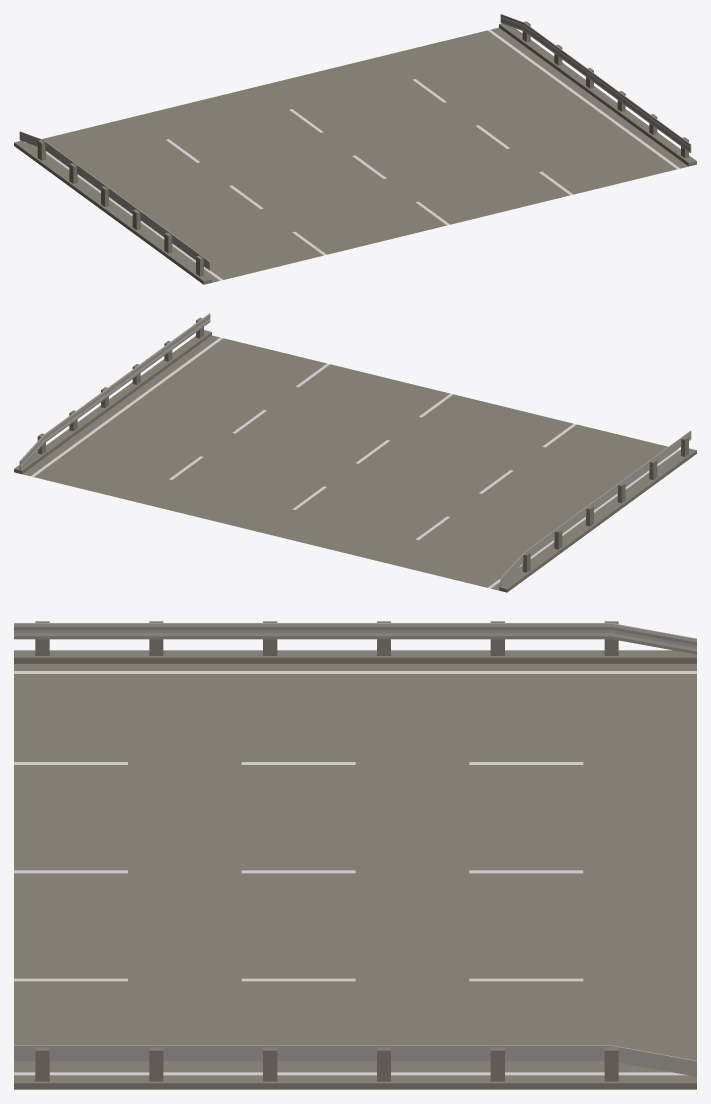
File: highway_Straight_Rail_End.fbx
The picture shows the model from 3 angles, top to bottom: view 1: azimuth 30°, elevation 25°; view 2: azimuth 150°, elevation 25°; view 3: azimuth 270°, elevation 25°; orthographic projection. The views are drawn at different scales.
Visible parts, largest first — view 1: Plane.001; view 2: Plane.001; view 3: Plane.001.
Boxes of the visible parts, box(x1,y1,x2,y2) form: Plane.001: box(14, 14, 696, 284); Plane.001: box(14, 313, 696, 592); Plane.001: box(14, 621, 696, 1089).
Size of the model in its own units: 30 by 1.25 by 20.
